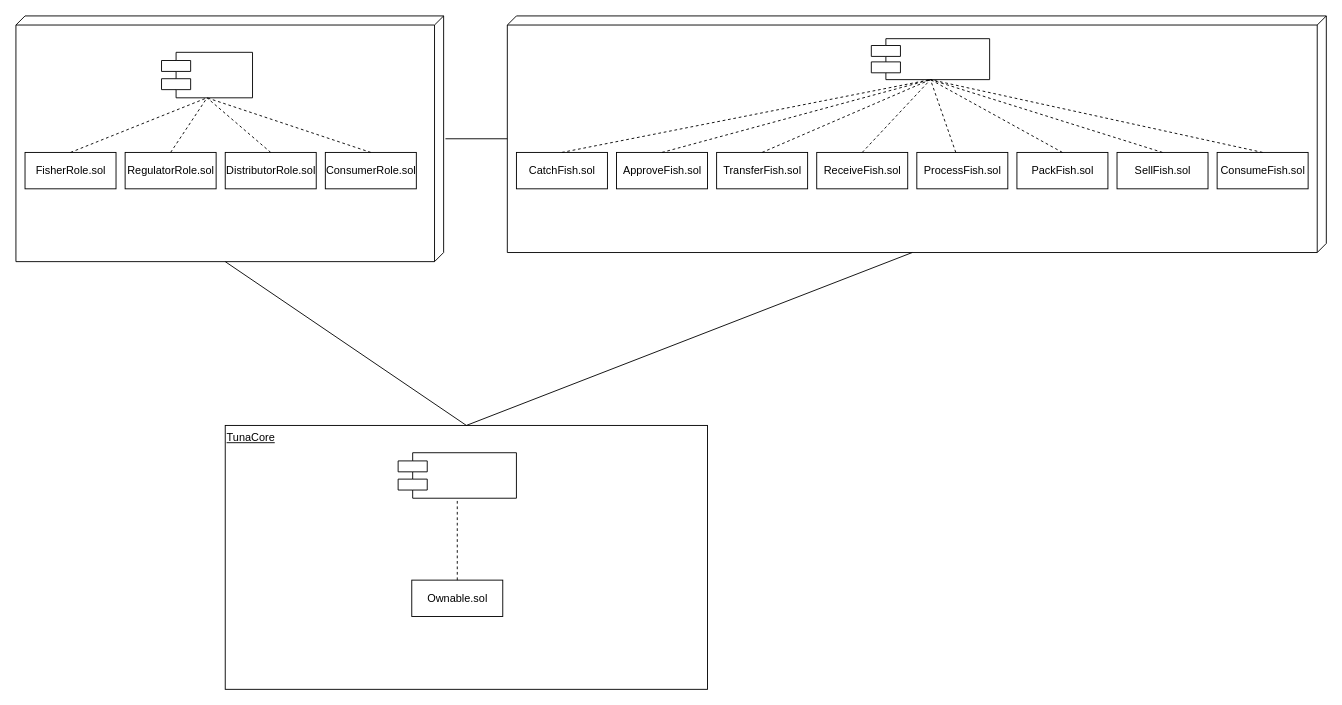
This 1342x705 diagram has some shape labels left out. Here are the shapes that lost their labels. From the top down, the box of each, then its label:
(161, 51, 253, 98): Roles.sol
(870, 38, 990, 80): SupplyChain.sol
(15, 15, 444, 262): TunaAccessControl
(506, 15, 1326, 253): TunaBase
(397, 452, 516, 498): ValueChain.sol
